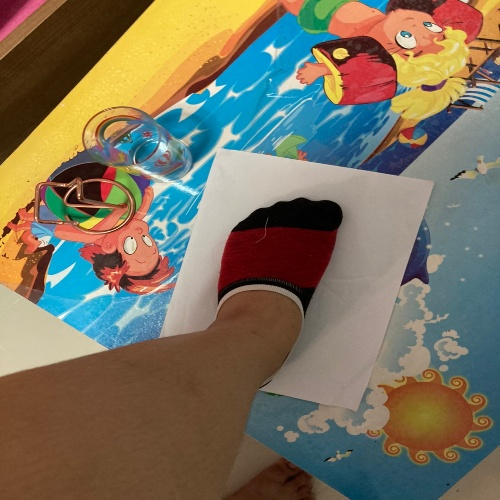Top_Foot: (156, 128, 442, 421)
